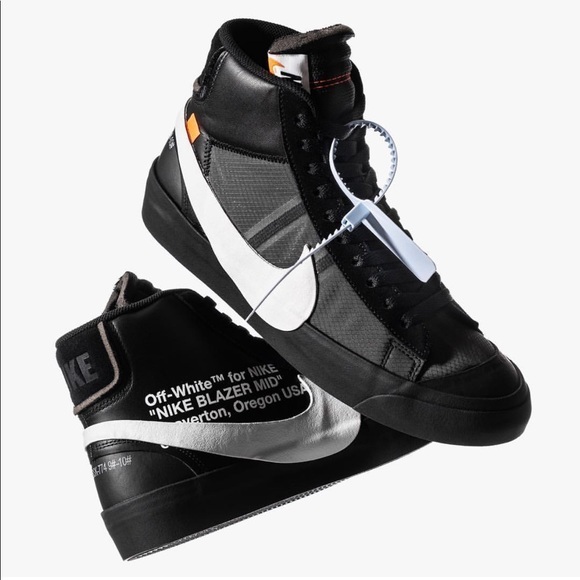Nike Blazer Grim Reaper: (130, 10, 543, 454), (40, 269, 455, 568)
